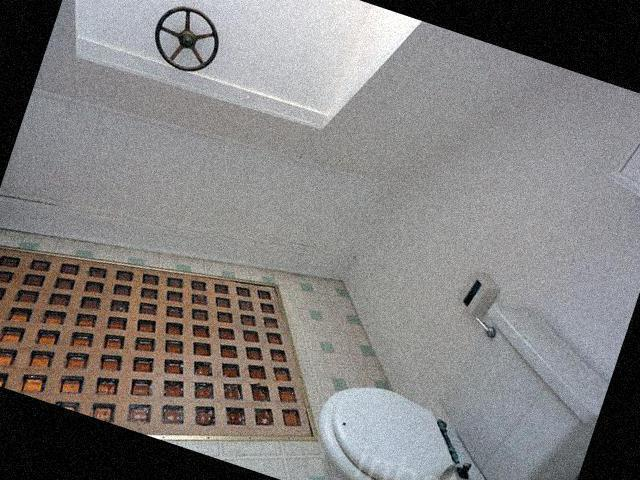Sanitario: (289, 254, 623, 480)
